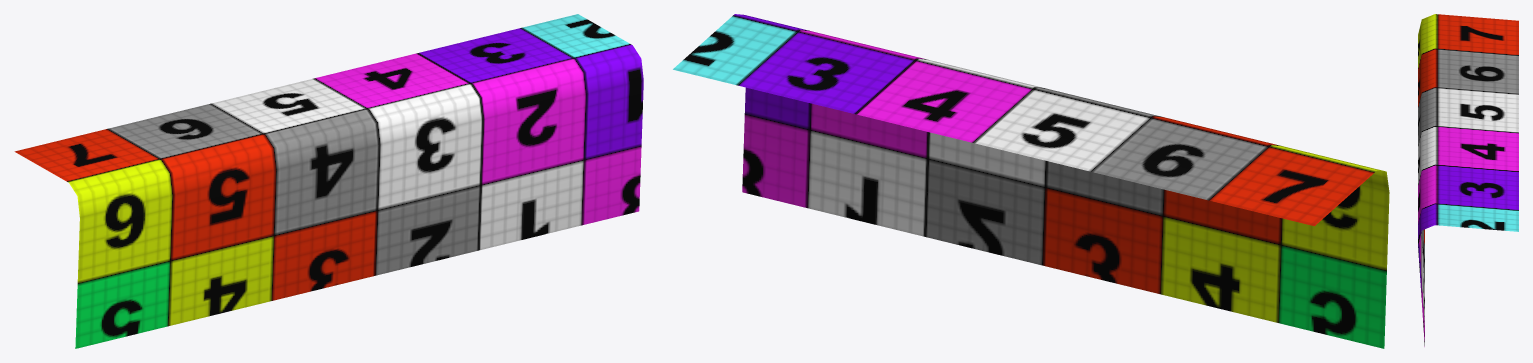
File: Vines02.fbx
3 renders of one model, left to right at view 1: azimuth 30°, elevation 25°; view 2: azimuth 150°, elevation 25°; view 3: azimuth 270°, elevation 25°, orthographic. The views are drawn at different scales.
Parts seen in each view (by area): view 1: vines02; view 2: vines02; view 3: vines02.
Part boxes in pixels (x1,y1,x2,y2): vines02: (14,14,643,348); vines02: (673,14,1389,348); vines02: (1418,14,1518,346).
Bounding box in the file's own units: 39.22 × 10.72 × 7.92.
Materials: 1 (1 with a texture image).
